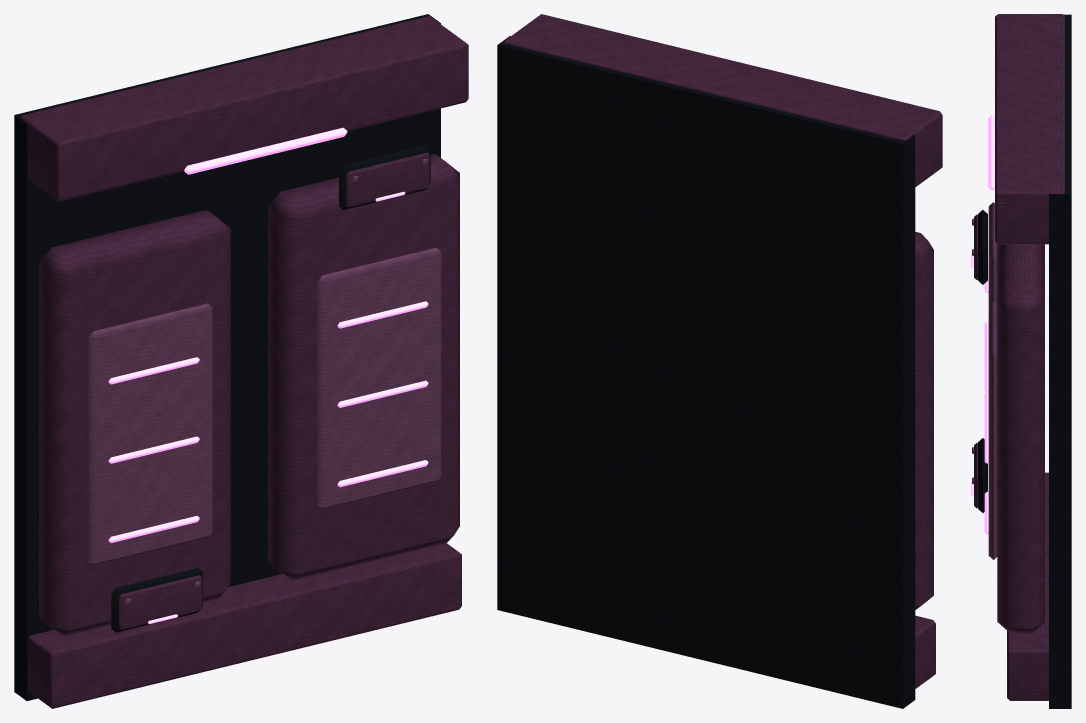
File: biolab_room.glb
3 views of the same model, side by side, from view 1: azimuth 30°, elevation 25°; view 2: azimuth 150°, elevation 25°; view 3: azimuth 270°, elevation 25° (orthographic). The views are drawn at different scales.
Visible parts, largest first — view 1: biolab_room - biolab panels, biolab_room - biolab trim, biolab_room - Recessed iron, biolab_room - biolab accents; view 2: biolab_room - Recessed iron, biolab_room - biolab panels; view 3: biolab_room - biolab panels, biolab_room - Recessed iron, biolab_room - biolab trim, biolab_room - biolab accents.
Boxes of the visible parts, <box> form: biolab_room - biolab panels: <box>20,16,468,708</box>; biolab_room - biolab trim: <box>88,159,441,604</box>; biolab_room - Recessed iron: <box>14,14,440,700</box>; biolab_room - biolab accents: <box>108,127,428,624</box>; biolab_room - Recessed iron: <box>497,36,915,708</box>; biolab_room - biolab panels: <box>504,14,942,688</box>; biolab_room - biolab panels: <box>974,14,1064,700</box>; biolab_room - Recessed iron: <box>978,14,1071,708</box>; biolab_room - biolab trim: <box>972,202,997,559</box>; biolab_room - biolab accents: <box>971,115,994,534</box>.
Bounding box in the file's own units: 6.01 × 8.03 × 1.41.
4 materials, 3 textured.
